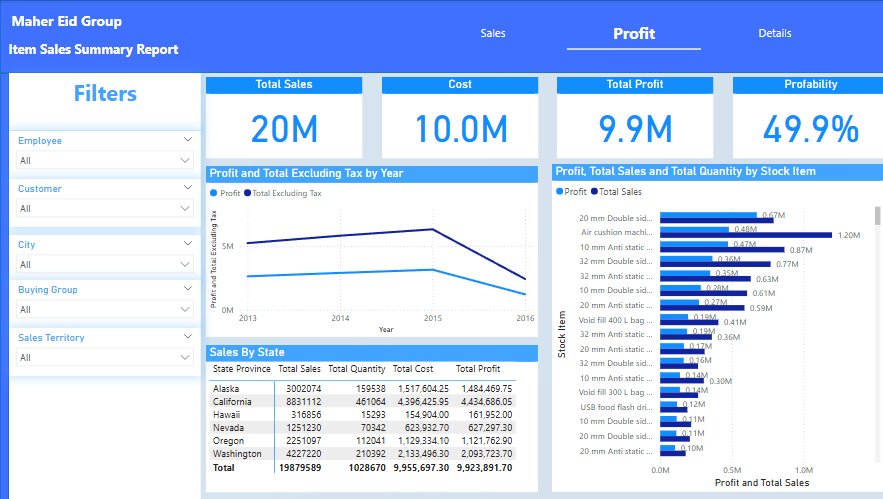

What the dashboard file says about the page in this screenshot:
{"tool":"powerbi","page":{"name":"Profit","canvas":[1280,720],"ordinal":1},"visuals":[{"type":"shape","box":[0,0,1280.2,105.1],"z":0},{"type":"shape","box":[0,105.1,13,614.9],"z":1000},{"type":"shape","box":[13,105.1,276.5,614.9],"z":2000},{"type":"textbox","box":[7.2,53.3,262.1,36],"z":3000},{"type":"card","title":"Total Sales","fields":{"Values":["FactSale.Total Excluding Tax"]},"box":[296.6,110.7,224.6,116.6],"z":4000},{"type":"card","title":"Cost","fields":{"Values":["FactSale.Cost"]},"box":[549.6,110.7,224.6,116.6],"z":5000},{"type":"card","title":"Total Profit","fields":{"Values":["FactSale.Profit"]},"box":[802.6,110.7,224.6,116.6],"z":6000},{"type":"card","title":"Profability","fields":{"Values":["FactSale.profitability"]},"box":[1055.4,110.7,224.6,116.6],"z":7000},{"type":"shape","box":[0,5.8,191.5,47.5],"z":8000},{"type":"textbox","box":[13,105.1,276.5,82.1],"z":9000},{"type":"lineChart","fields":{"Category":["DimDate.Date.Variation.Date Hierarchy.Year","DimDate.Date.Variation.Date Hierarchy.Quarter","DimDate.Date.Variation.Date Hierarchy.Month","DimDate.Date.Variation.Date Hierarchy.Day"],"Y":["FactSale.Profit","FactSale.Total Excluding Tax"]},"box":[296.6,239,478.1,246.2],"z":10000},{"type":"clusteredBarChart","fields":{"Category":["DimStockItem.Stock Item"],"Y":["FactSale.Profit","FactSale.Total Excluding Tax"]},"box":[794.9,236.2,478.1,472.3],"z":11000},{"type":"pivotTable","title":"Sales By State","fields":{"Values":["FactSale.Total Excluding Tax","FactSale.Quantity","FactSale.Cost","FactSale.Profit"],"Rows":["DimCity.State Province"]},"box":[296.6,496.8,478.1,211.7],"z":12000},{"type":"slicer","fields":{"Values":["DimEmployee.Employee"]},"box":[13,188.6,276.5,69.1],"z":13000},{"type":"slicer","fields":{"Values":["DimCustomer.Customer"]},"box":[13,257.8,276.5,69.1],"z":14000},{"type":"slicer","fields":{"Values":["DimCity.City"]},"box":[13,338.4,276.5,69.1],"z":15000},{"type":"slicer","fields":{"Values":["DimCustomer.Buying Group"]},"box":[13,403.2,276.5,69.1],"z":16000},{"type":"slicer","fields":{"Values":["DimCity.Sales Territory"]},"box":[13,472.3,276.5,69.1],"z":17000},{"type":"pageNavigator","box":[613.4,21.6,600.5,50.4],"z":18000}]}

Visuals, with their boxes in screenshot pixels (x1, y1, x2, y2), scaled from the page's 1280x720 canvas onto the 883x499 screenshot:
shape: {"left": 0, "top": 0, "right": 882, "bottom": 73}
shape: {"left": 0, "top": 73, "right": 9, "bottom": 498}
shape: {"left": 9, "top": 73, "right": 200, "bottom": 498}
textbox: {"left": 5, "top": 37, "right": 186, "bottom": 62}
"Total Sales" card: {"left": 205, "top": 77, "right": 360, "bottom": 158}
"Cost" card: {"left": 379, "top": 77, "right": 534, "bottom": 158}
"Total Profit" card: {"left": 554, "top": 77, "right": 709, "bottom": 158}
"Profability" card: {"left": 728, "top": 77, "right": 882, "bottom": 158}
shape: {"left": 0, "top": 4, "right": 132, "bottom": 37}
textbox: {"left": 9, "top": 73, "right": 200, "bottom": 130}
lineChart - DimDate.Date.Variation.Date Hierarchy.Year x DimDate.Date.Variation.Date Hierarchy.Quarter: {"left": 205, "top": 166, "right": 534, "bottom": 336}
clusteredBarChart - DimStockItem.Stock Item x FactSale.Profit: {"left": 548, "top": 164, "right": 878, "bottom": 491}
"Sales By State" pivotTable: {"left": 205, "top": 344, "right": 534, "bottom": 491}
slicer - DimEmployee.Employee: {"left": 9, "top": 131, "right": 200, "bottom": 179}
slicer - DimCustomer.Customer: {"left": 9, "top": 179, "right": 200, "bottom": 227}
slicer - DimCity.City: {"left": 9, "top": 235, "right": 200, "bottom": 282}
slicer - DimCustomer.Buying Group: {"left": 9, "top": 279, "right": 200, "bottom": 327}
slicer - DimCity.Sales Territory: {"left": 9, "top": 327, "right": 200, "bottom": 375}
pageNavigator: {"left": 423, "top": 15, "right": 837, "bottom": 50}
